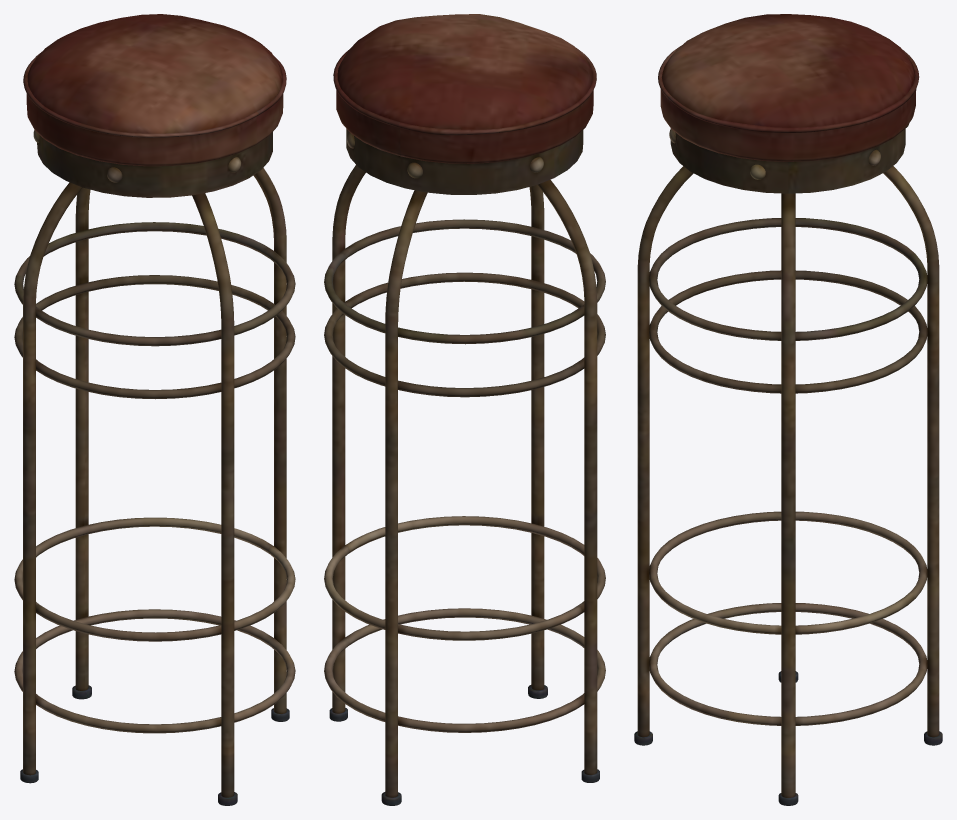
The model's file is stool.glb.
3 renders of one model, left to right at view 1: azimuth 30°, elevation 25°; view 2: azimuth 150°, elevation 25°; view 3: azimuth 270°, elevation 25°, orthographic.
Parts seen in each view (by area): view 1: Cylinder.010; view 2: Cylinder.010; view 3: Cylinder.010.
Boxes of the visible parts, <box> form: Cylinder.010: <box>14,14,295,805</box>; Cylinder.010: <box>324,14,605,805</box>; Cylinder.010: <box>634,14,942,805</box>.
Size of the model in its own units: 0.352 by 0.8828 by 0.3546.
1 material, 1 textured.
